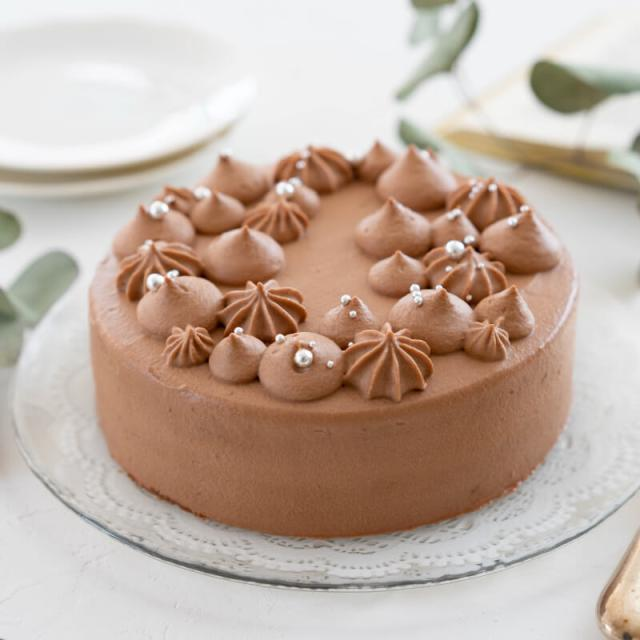chocolatecake: (86, 139, 580, 538)
